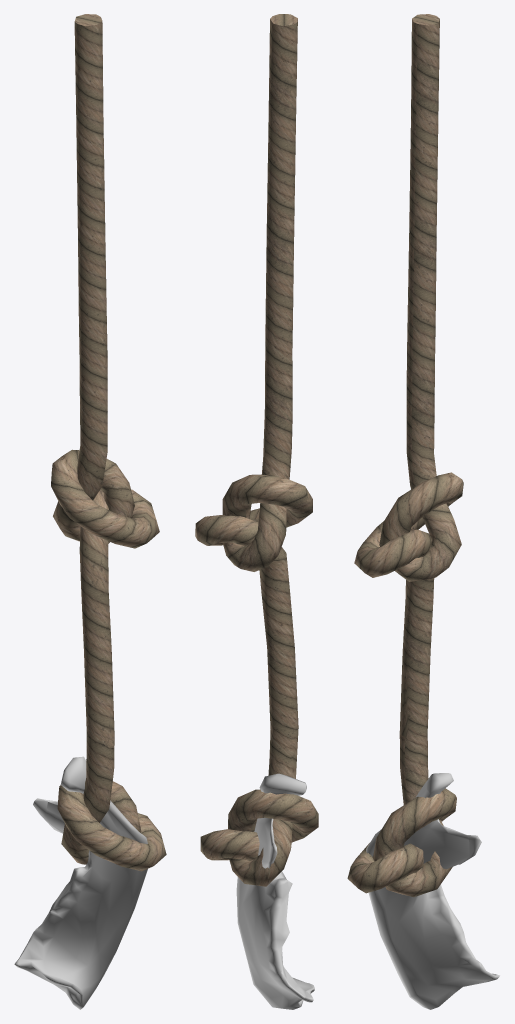
File: SM_Bone06.fbx
3 views of the same model, side by side, from view 1: azimuth 90°, elevation 25°; view 2: azimuth 210°, elevation 25°; view 3: azimuth 270°, elevation 25° (orthographic).
Visible parts, largest first — view 1: SM_Bone06_LOD0; view 2: SM_Bone06_LOD0; view 3: SM_Bone06_LOD0.
Boxes of the visible parts, box(x1,y1,x2,y2) form: SM_Bone06_LOD0: box(14, 14, 166, 1009); SM_Bone06_LOD0: box(195, 14, 318, 1009); SM_Bone06_LOD0: box(347, 14, 499, 1009).
Size of the model in its own units: 8.41 by 11.34 by 80.98.
